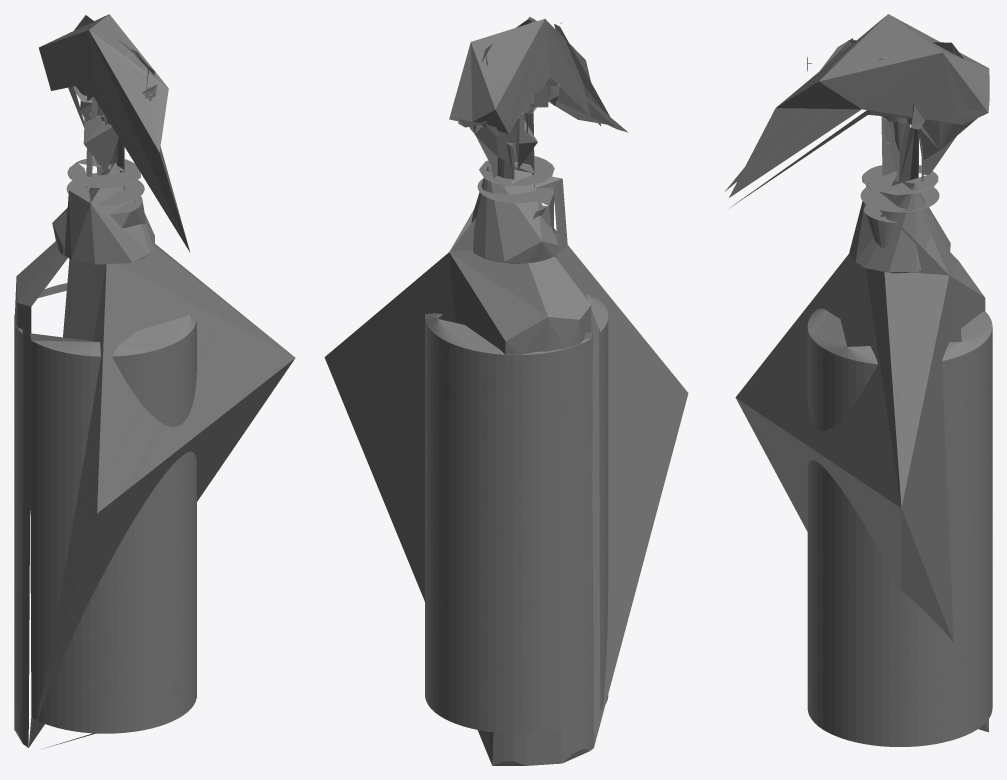
The model's file is disinfectant_a01.glb.
3 views of the same model, side by side, from view 1: azimuth 30°, elevation 25°; view 2: azimuth 150°, elevation 25°; view 3: azimuth 270°, elevation 25° (orthographic).
Visible parts, largest first — view 1: geometry_0; view 2: geometry_0; view 3: geometry_0.
Part boxes in pixels (x1,y1,x2,y2): geometry_0: [14, 14, 295, 748]; geometry_0: [324, 17, 688, 765]; geometry_0: [725, 14, 992, 746].
Bounding box in the file's own units: 0.1733 × 0.42 × 0.1454.
Materials: 1 (1 with a texture image).
